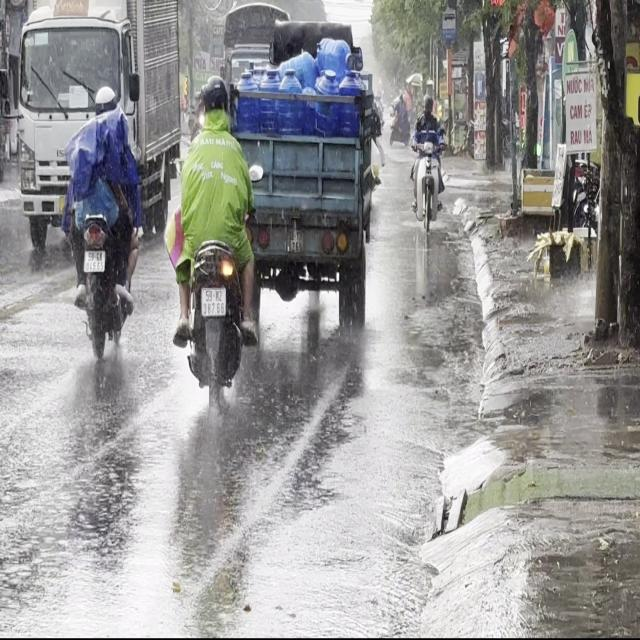helmet: (199, 73, 229, 127), (93, 84, 116, 117), (422, 92, 434, 115)
licenseplate: (163, 70, 264, 407), (62, 79, 141, 362), (408, 90, 447, 231)
nohelmet: (202, 288, 226, 316), (84, 249, 104, 271)
